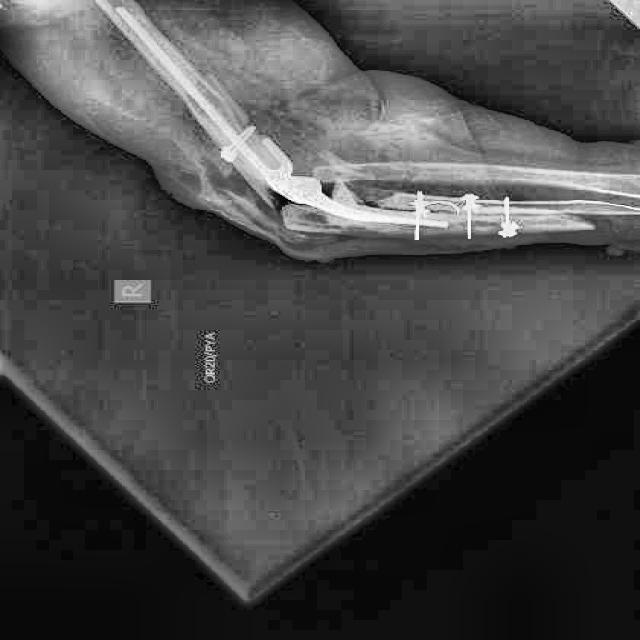elbow positive: (236, 178, 339, 246)
